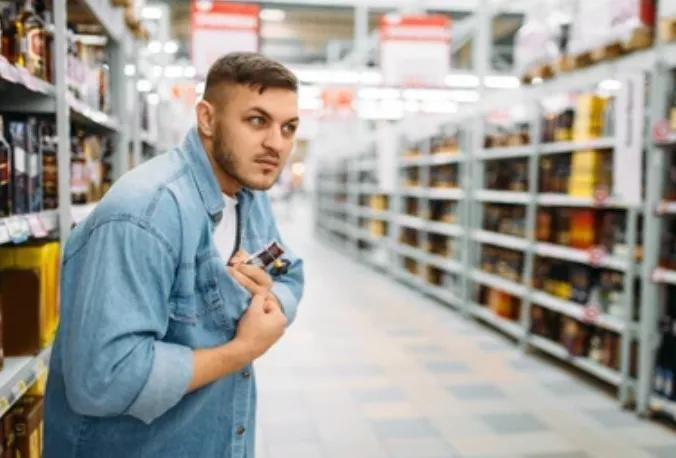shoplifting: (90, 33, 323, 442)
